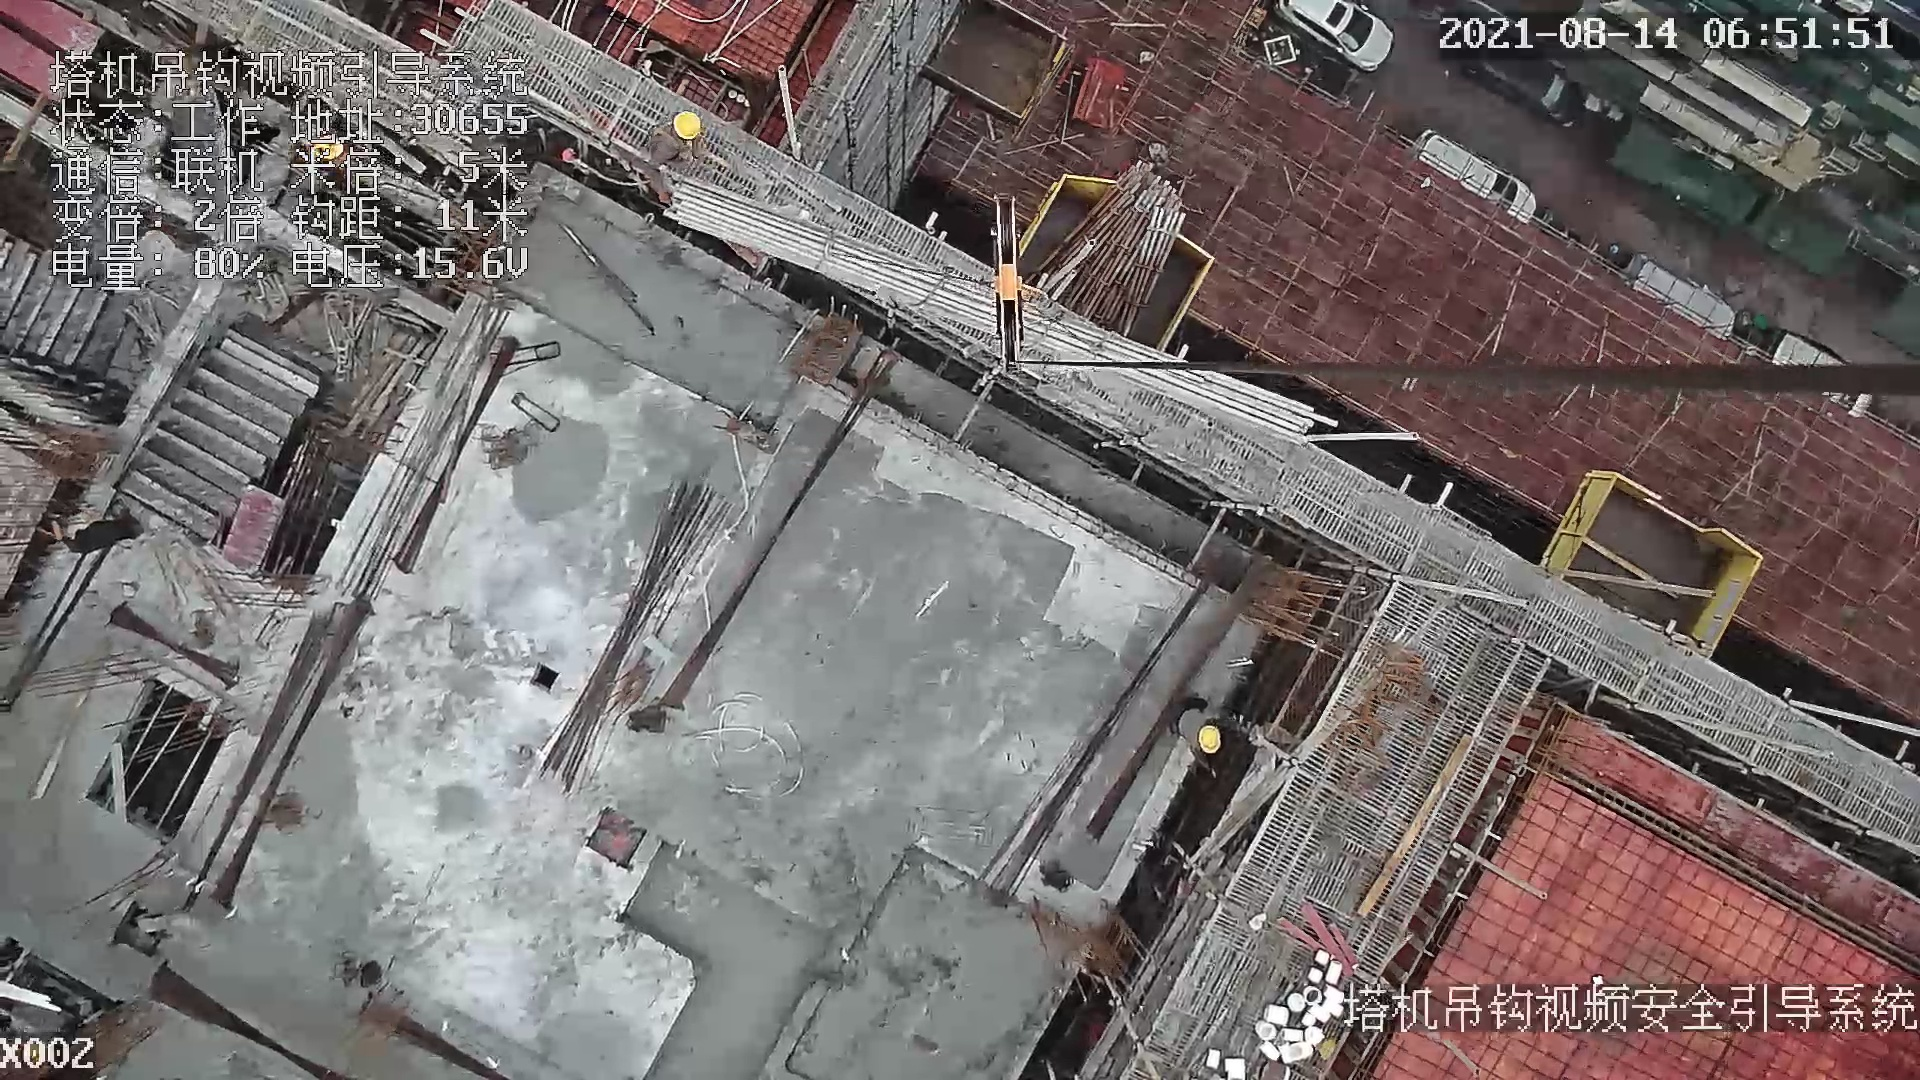helmet: (674, 110, 701, 140), (1199, 725, 1222, 754)
hook: (981, 191, 1046, 378)
person: (1163, 685, 1276, 774), (636, 106, 705, 217), (48, 519, 154, 556)
rebar: (664, 175, 1339, 445), (536, 482, 733, 792)
scaffold: (1032, 158, 1186, 338)
